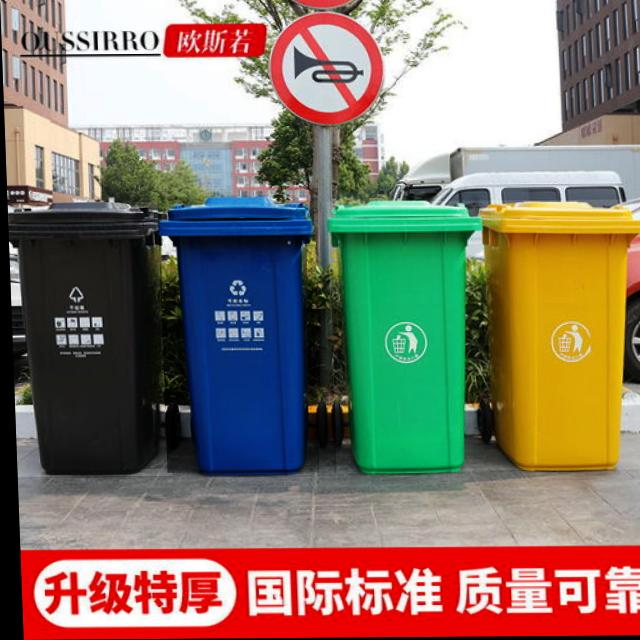garbage_bin: (6, 203, 169, 478), (156, 195, 316, 473), (325, 201, 486, 474), (478, 201, 640, 471)
